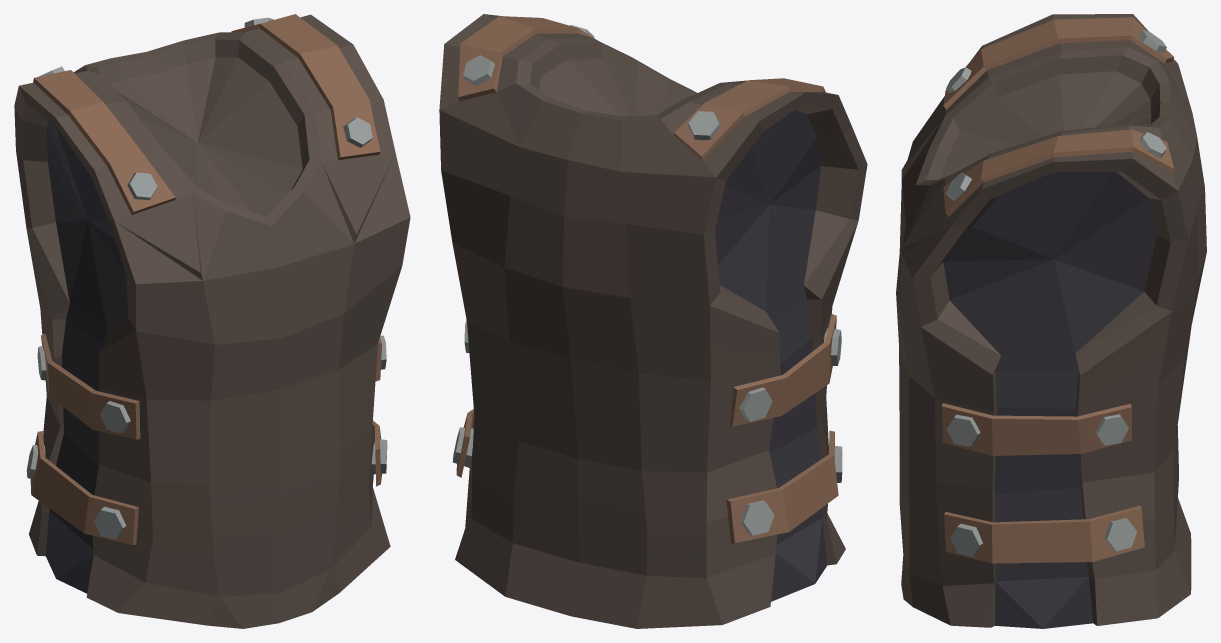
File: armorLeatherVestDisplay.fbx
3 views of the same model, side by side, from view 1: azimuth 30°, elevation 25°; view 2: azimuth 150°, elevation 25°; view 3: azimuth 270°, elevation 25° (orthographic). The views are drawn at different scales.
Visible parts, largest first — view 1: armorLeatherVestDisplay; view 2: armorLeatherVestDisplay; view 3: armorLeatherVestDisplay.
Boxes of the visible parts, x1,y1,x2,y2 form: armorLeatherVestDisplay: (14,14,410,628); armorLeatherVestDisplay: (439,14,867,628); armorLeatherVestDisplay: (896,14,1206,628).
Bounding box in the file's own units: 0.8592 × 1.32 × 0.7415.
